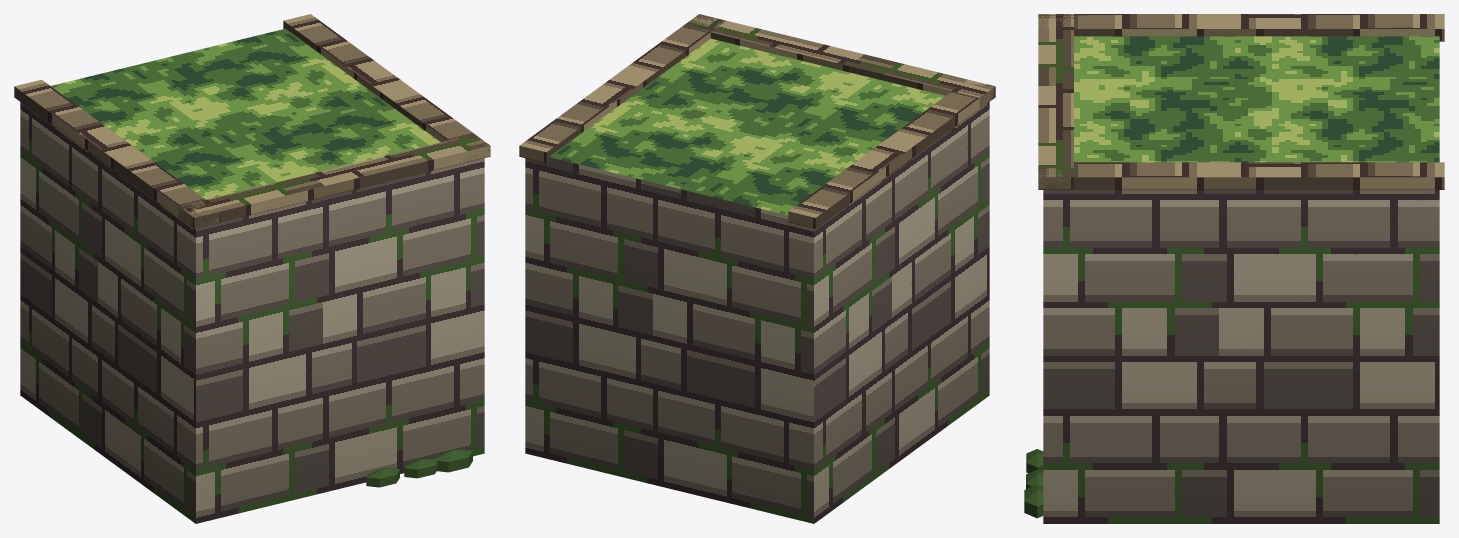
The model's file is scene_spring_ledge.glb.
3 renders of one model, left to right at view 1: azimuth 30°, elevation 25°; view 2: azimuth 150°, elevation 25°; view 3: azimuth 270°, elevation 25°, orthographic. The views are drawn at different scales.
Visible parts, largest first — view 1: scene_spring_ledge; view 2: scene_spring_ledge; view 3: scene_spring_ledge.
Boxes of the visible parts, x1,y1,x2,y2 form: scene_spring_ledge: (14, 14, 490, 523); scene_spring_ledge: (519, 14, 995, 523); scene_spring_ledge: (1024, 14, 1444, 523).
Bounding box in the file's own units: 3.9 × 3.97 × 4.24.
3 materials, 2 textured.
